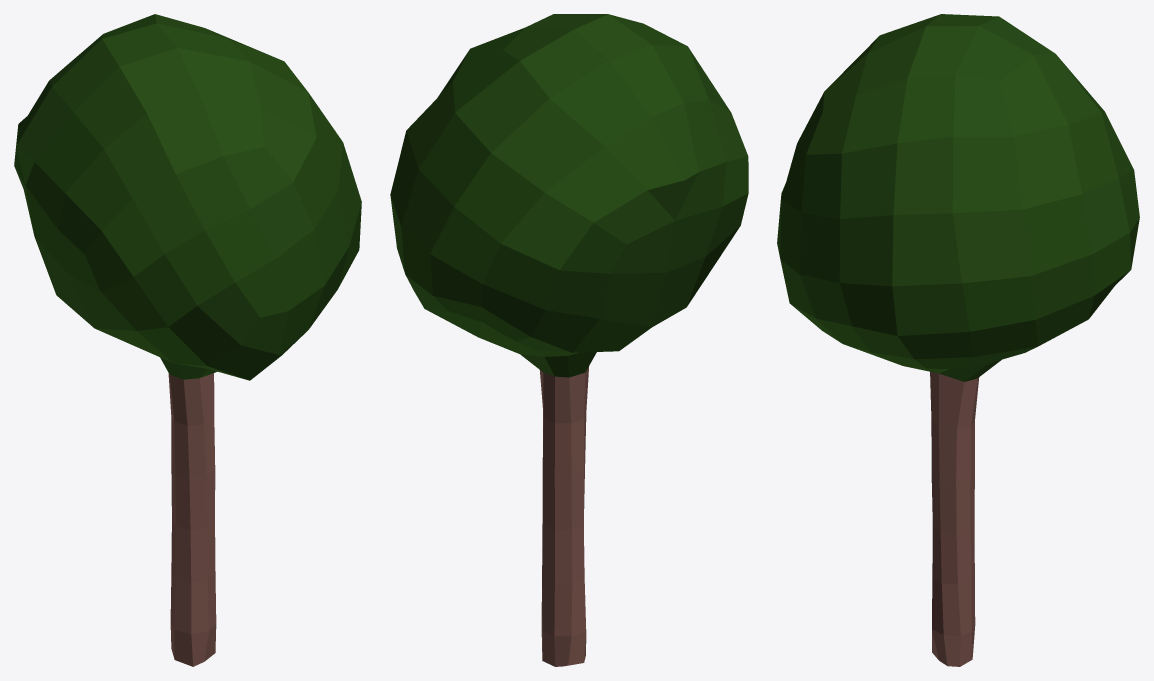
The model's file is GADS_Tree_01_lowpoly.fbx.
3 renders of one model, left to right at view 1: azimuth 30°, elevation 25°; view 2: azimuth 150°, elevation 25°; view 3: azimuth 270°, elevation 25°, orthographic. The views are drawn at different scales.
Visible parts, largest first — view 1: Retopo_Cylinder.002; view 2: Retopo_Cylinder.002; view 3: Retopo_Cylinder.002.
Boxes of the visible parts, x1=… form: Retopo_Cylinder.002: x1=14, y1=14, x2=361, y2=666; Retopo_Cylinder.002: x1=390, y1=14, x2=748, y2=666; Retopo_Cylinder.002: x1=777, y1=14, x2=1139, y2=666.
Bounding box in the file's own units: 534 × 1094 × 575.
